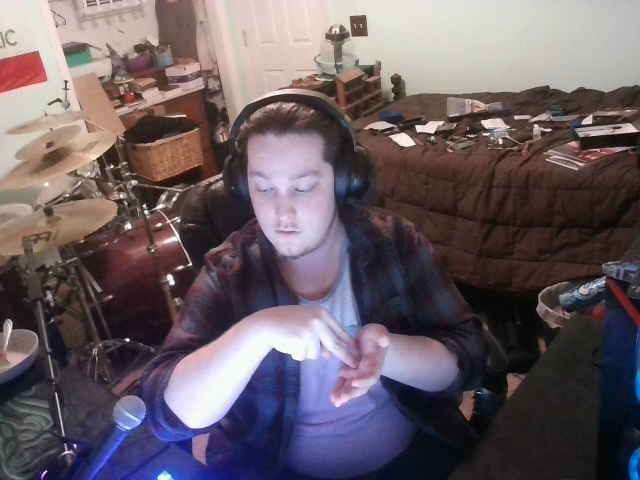fork: (251, 292, 398, 422)
